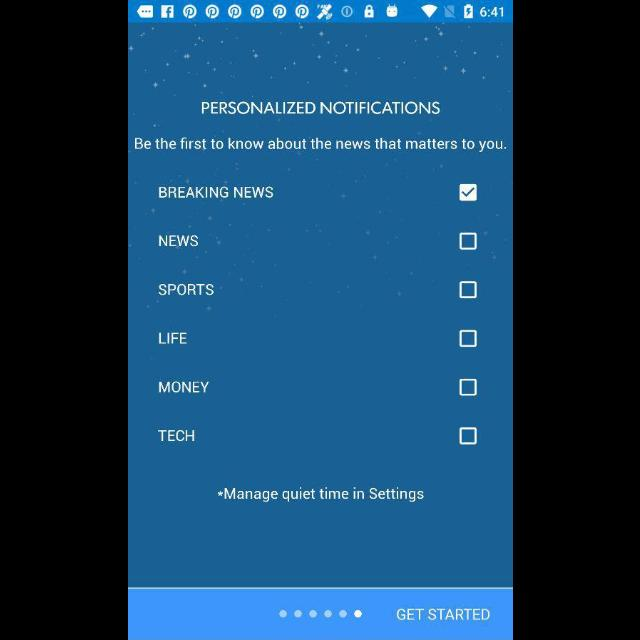checkbox: (458, 427, 476, 445), (459, 184, 476, 202), (459, 232, 476, 250), (459, 281, 476, 299), (459, 330, 476, 348), (459, 379, 476, 396)
pageindicator: (278, 610, 362, 618)
text: (134, 137, 506, 153), (202, 101, 440, 115), (217, 487, 423, 503), (158, 187, 272, 199), (395, 608, 489, 620), (158, 284, 214, 296), (158, 381, 208, 393), (158, 235, 198, 247), (158, 430, 195, 442), (158, 332, 186, 346)
uppertaskbar: (128, 1, 512, 23)
